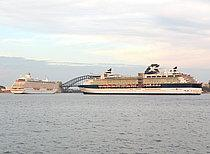Ship: (79, 65, 206, 97), (7, 71, 69, 95)
